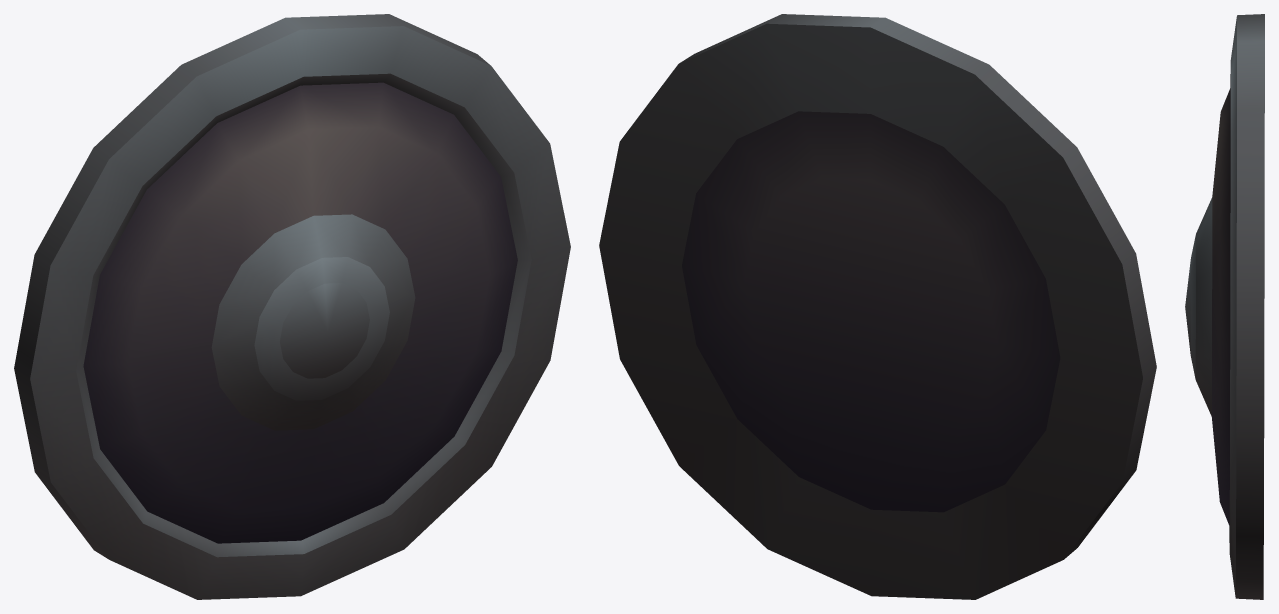
Rendered from ma020_Shield.FBX.
3 views of the same model, side by side, from view 1: azimuth 30°, elevation 25°; view 2: azimuth 150°, elevation 25°; view 3: azimuth 270°, elevation 25° (orthographic). The views are drawn at different scales.
Visible parts, largest first — view 1: ma020_Shield; view 2: ma020_Shield; view 3: ma020_Shield.
Part boxes in pixels (x1,y1,x2,y2): ma020_Shield: (14,14,570,599); ma020_Shield: (599,14,1156,599); ma020_Shield: (1185,14,1264,599).
Bounding box in the file's own units: 52.24 × 52.24 × 7.11.
